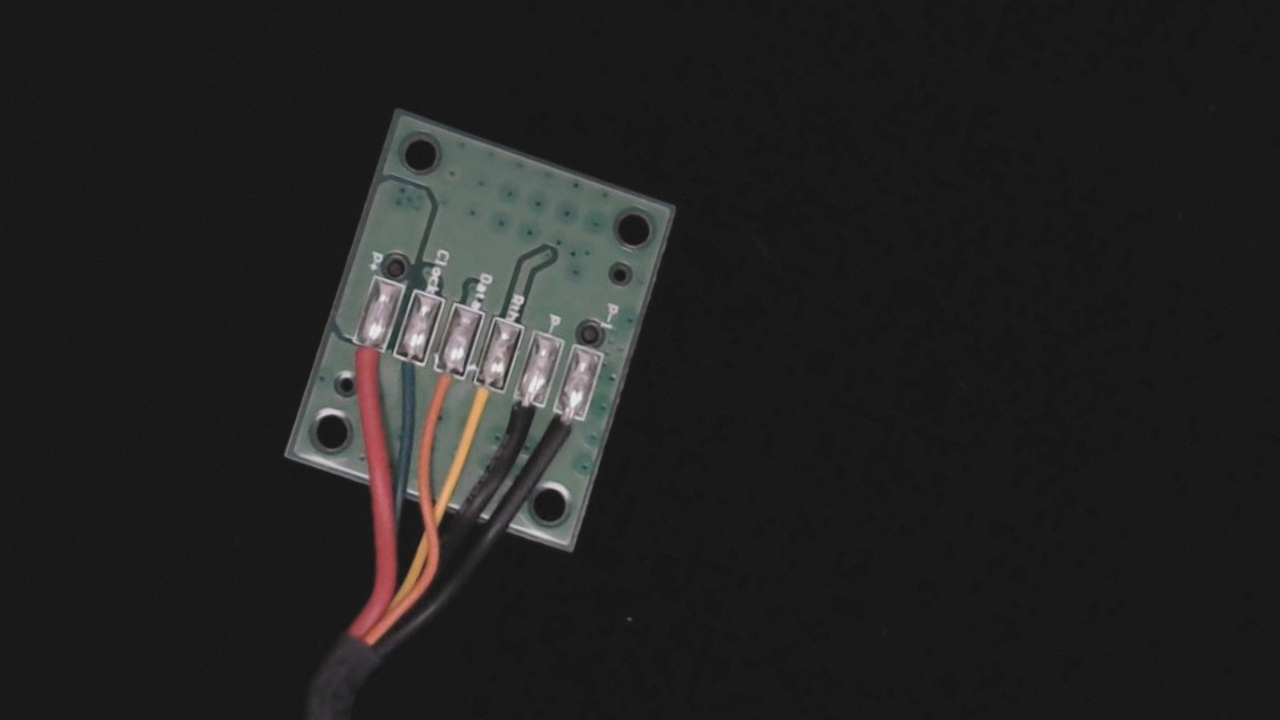Black: (492, 373, 554, 463)
Black1: (534, 388, 592, 471)
Green: (377, 326, 437, 413)
Orange: (416, 342, 475, 431)
Red: (335, 316, 395, 403)
Yellow: (456, 359, 518, 450)
